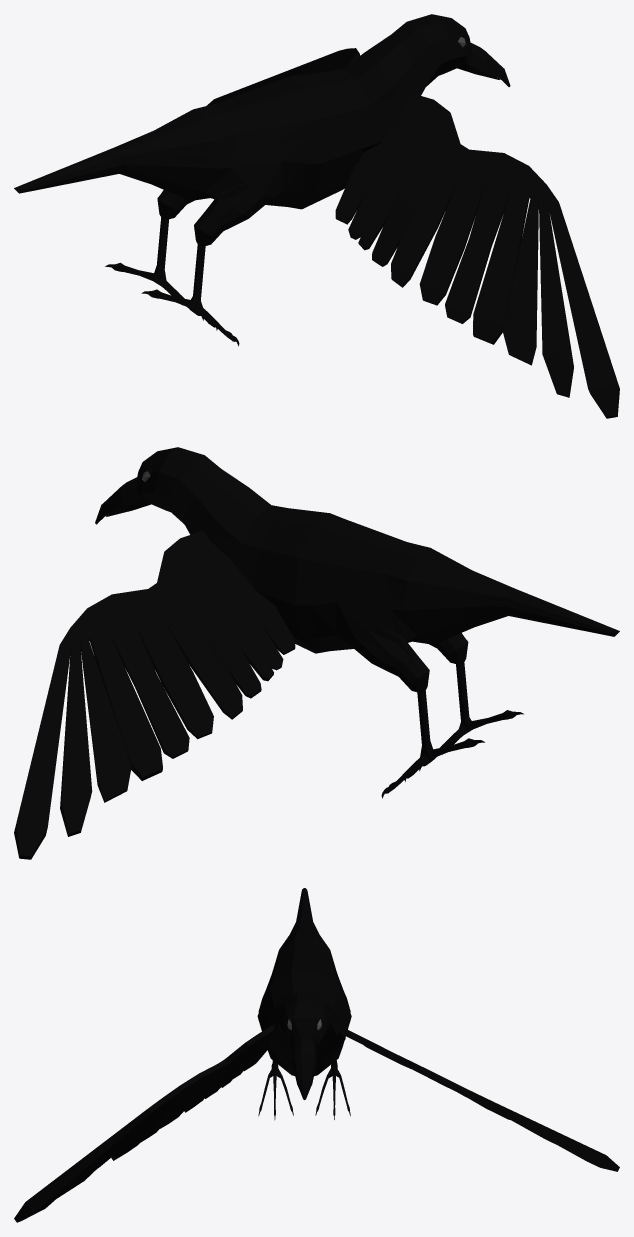
File: crow_down_000005.obj
The picture shows the model from 3 angles, top to bottom: view 1: azimuth 30°, elevation 25°; view 2: azimuth 150°, elevation 25°; view 3: azimuth 270°, elevation 25°; orthographic projection. The views are drawn at different scales.
Visible parts, largest first — view 1: Cylinder; view 2: Cylinder; view 3: Cylinder.
Part boxes in pixels (x1,y1,x2,y2): Cylinder: (14,14,619,418); Cylinder: (14,447,619,859); Cylinder: (14,888,619,1222).
Bounding box in the file's own units: 1.62 × 0.8547 × 2.11.
